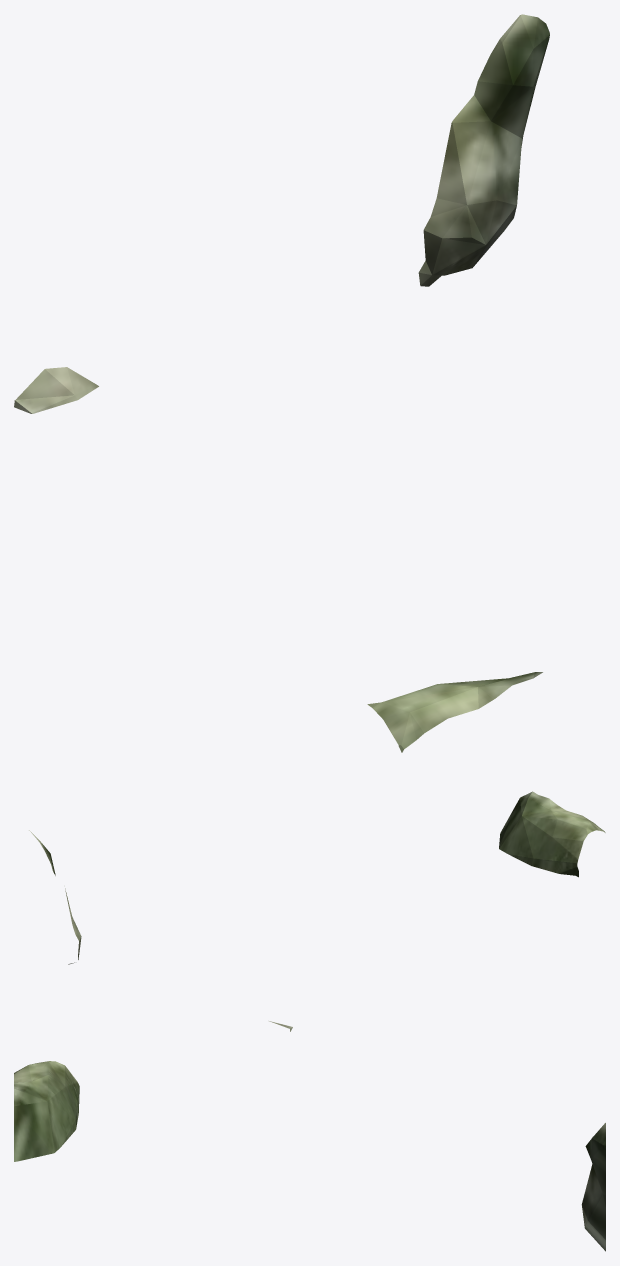
The picture shows the model from 3 angles, top to bottom: view 1: azimuth 30°, elevation 25°; view 2: azimuth 150°, elevation 25°; view 3: azimuth 270°, elevation 25°; orthographic projection. The views are drawn at different scales.
Size of the model in its own units: 2.21 by 0.8743 by 2.95.
Materials: 1 (1 with a texture image).
